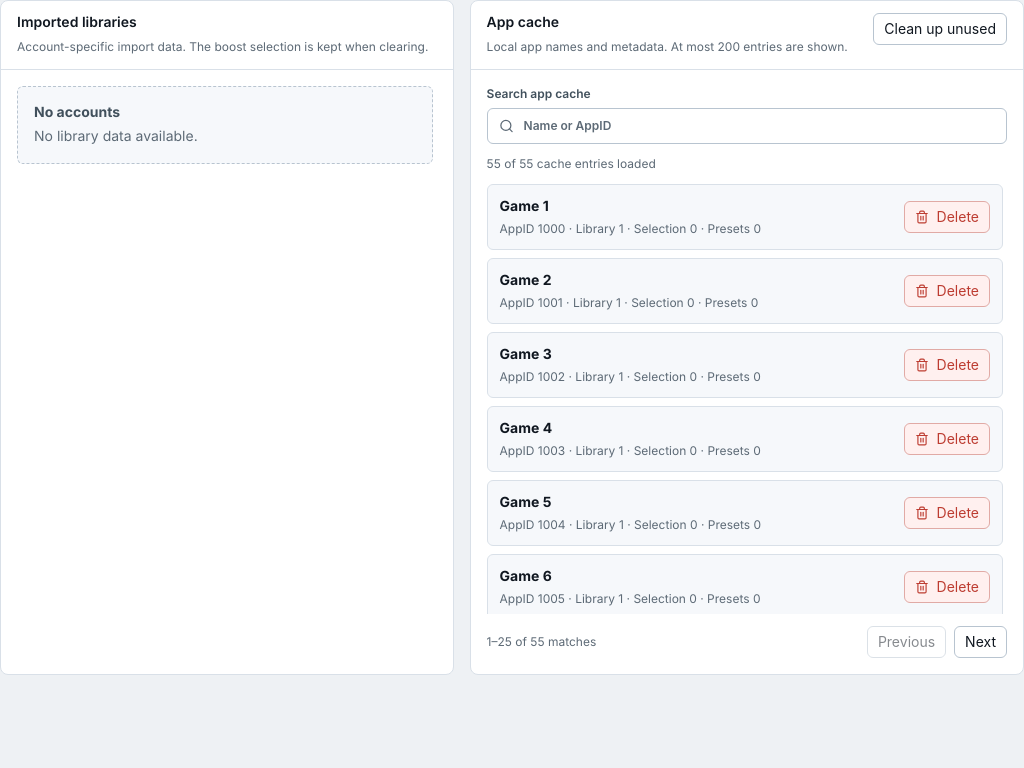
Test: admin app cache pagination › limits destructive actions to 25 per page
Expected: the text "1–25 of 55 matches" is shown, top-left (487, 634), bottom-right (596, 650)
Click the button "Next" at (981, 642), box top-left (954, 626), bottom-right (1007, 658)
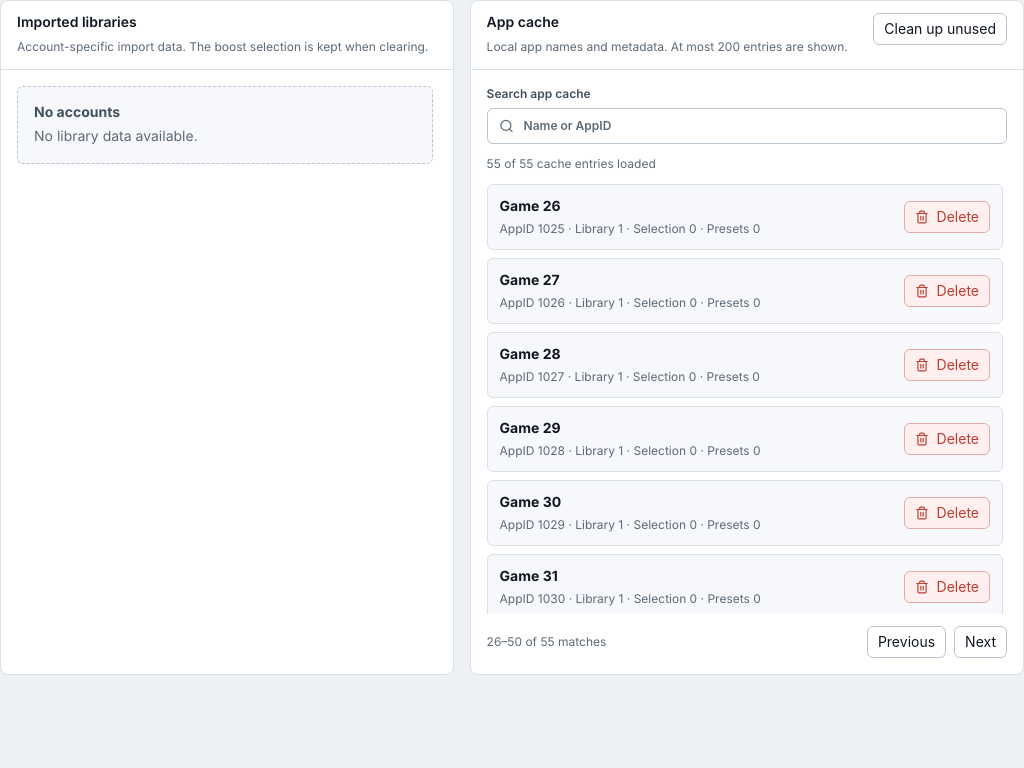
Now the text "26–50 of 55 matches" is shown, box top-left (487, 634), bottom-right (606, 650)
Click the button "Next" at (981, 642), box top-left (954, 626), bottom-right (1007, 658)
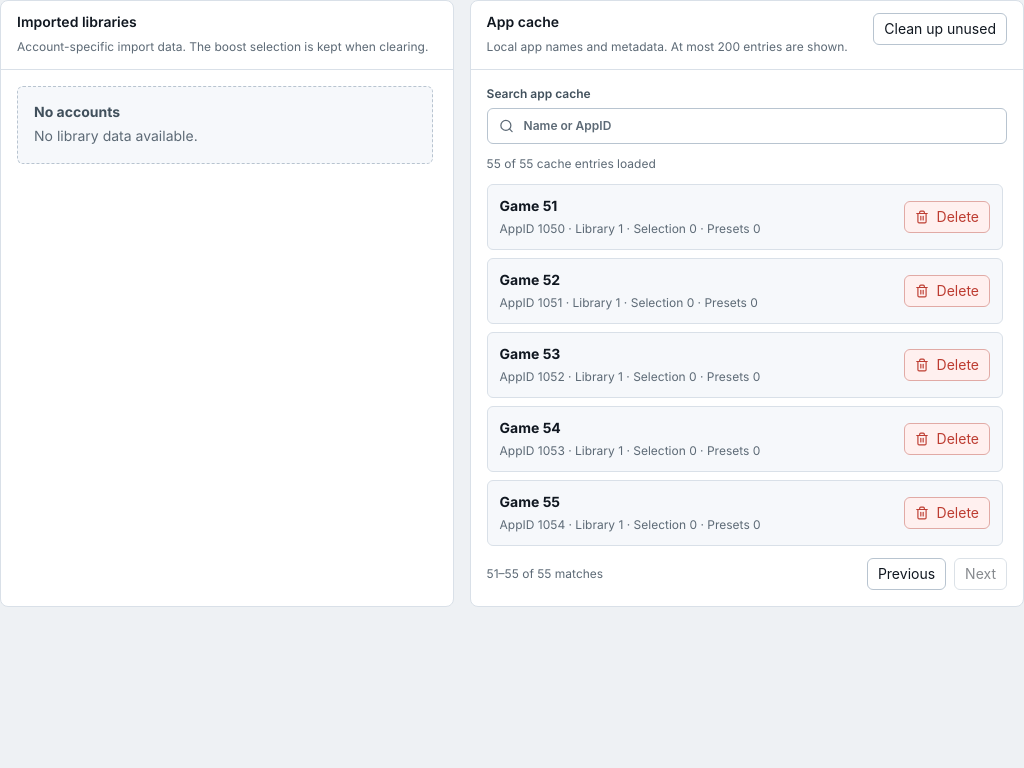
Now the number of buttons named "Delete: Game" is 5, box top-left (904, 201), bottom-right (990, 233); top-left (904, 275), bottom-right (990, 307); top-left (904, 349), bottom-right (990, 381); top-left (904, 423), bottom-right (990, 455); top-left (904, 497), bottom-right (990, 529)
Now the button "Next" is disabled, box top-left (954, 558), bottom-right (1007, 590)
